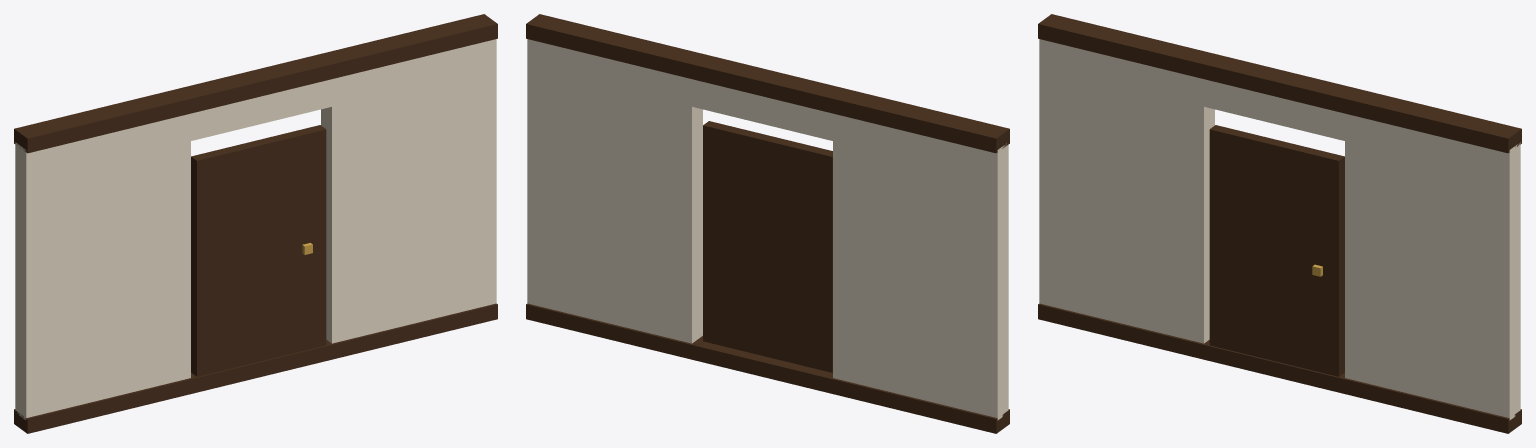
The model's file is hanok_door_single.glb.
The picture shows the model from 3 angles, left to right: view 1: azimuth 30°, elevation 25°; view 2: azimuth 150°, elevation 25°; view 3: azimuth 330°, elevation 25°; orthographic projection.
Visible parts, largest first — view 1: hanok_door_single; view 2: hanok_door_single; view 3: hanok_door_single.
Part boxes in pixels (box(x1,y1,x2,y2)): hanok_door_single: box(14, 14, 497, 433); hanok_door_single: box(526, 14, 1009, 433); hanok_door_single: box(1038, 14, 1521, 433).
Size of the model in its own units: 4 by 2.4 by 0.22.
